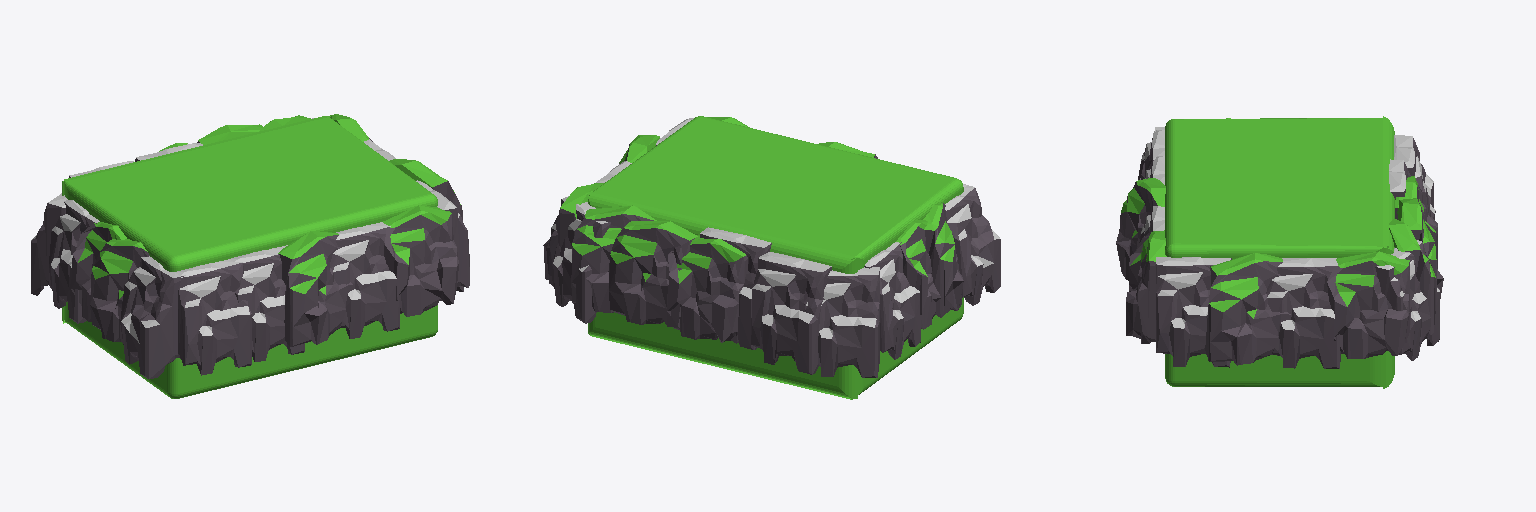
The model's file is small_island.obj.
The picture shows the model from 3 angles: view 1: azimuth 30°, elevation 25°; view 2: azimuth 150°, elevation 25°; view 3: azimuth 270°, elevation 25°; orthographic projection.
Visible parts, largest first — view 1: Cube.062_Cube.038, Cube.068_Cube.045, Cube.071_Cube.047, Cube.073_Cube.049, Cube.078_Cube.062, Cube.069_Cube.046, Cube.072_Cube.048, Cube.077_Cube.061, Cube.075_Cube.052, Cube.076_Cube.053, Cube.079_Cube.065, Cube.066_Cube.043 (+2 smaller); view 2: Cube.062_Cube.038, Cube.054_Cube.023, Cube.050_Cube.019, Cube.052_Cube.021, Cube.079_Cube.065, Cube.078_Cube.062, Cube.075_Cube.052, Cube.051_Cube.020, Cube.077_Cube.061, Cube.063_Cube.039, Cube.076_Cube.053, Cube.053_Cube.022 (+2 smaller); view 3: Cube.062_Cube.038, Cube.067_Cube.044, Cube.065_Cube.042, Cube.064_Cube.041, Cube.066_Cube.043, Cube.071_Cube.047, Cube.063_Cube.039, Cube.073_Cube.049, Cube.051_Cube.020, Cube.054_Cube.023, Cube.052_Cube.021, Cube.050_Cube.019 (+2 smaller).
Boxes of the visible parts, <box> form: Cube.062_Cube.038: <box>62,116,437,398</box>; Cube.068_Cube.045: <box>173,259,251,375</box>; Cube.071_Cube.047: <box>383,205,458,316</box>; Cube.073_Cube.049: <box>278,231,354,346</box>; Cube.078_Cube.062: <box>120,256,185,378</box>; Cube.069_Cube.046: <box>330,222,399,338</box>; Cube.072_Cube.048: <box>230,245,304,361</box>; Cube.077_Cube.061: <box>90,239,149,341</box>; Cube.075_Cube.052: <box>49,200,99,323</box>; Cube.076_Cube.053: <box>71,222,126,326</box>; Cube.079_Cube.065: <box>31,193,67,295</box>; Cube.066_Cube.043: <box>416,180,469,291</box>; Cube.062_Cube.038: <box>588,116,963,399</box>; Cube.054_Cube.023: <box>751,252,831,374</box>; Cube.050_Cube.019: <box>667,235,747,343</box>; Cube.052_Cube.021: <box>609,221,697,326</box>; Cube.079_Cube.065: <box>804,267,879,377</box>; Cube.078_Cube.062: <box>945,184,1000,305</box>; Cube.075_Cube.052: <box>864,242,920,359</box>; Cube.051_Cube.020: <box>571,205,656,312</box>; Cube.077_Cube.061: <box>923,203,963,317</box>; Cube.063_Cube.039: <box>549,196,610,323</box>; Cube.076_Cube.053: <box>896,220,950,329</box>; Cube.053_Cube.022: <box>700,227,771,349</box>; Cube.062_Cube.038: <box>1165,116,1394,388</box>; Cube.067_Cube.044: <box>1205,253,1291,365</box>; Cube.065_Cube.042: <box>1327,251,1409,358</box>; Cube.064_Cube.041: <box>1266,258,1340,368</box>; Cube.066_Cube.043: <box>1156,257,1231,367</box>; Cube.071_Cube.047: <box>1126,230,1166,343</box>; Cube.063_Cube.039: <box>1375,240,1439,360</box>; Cube.073_Cube.049: <box>1116,178,1165,280</box>; Cube.051_Cube.020: <box>1388,219,1436,334</box>; Cube.054_Cube.023: <box>1394,135,1435,219</box>; Cube.052_Cube.021: <box>1397,198,1443,298</box>; Cube.050_Cube.019: <box>1395,176,1437,268</box>.
Size of the model in its own units: 19.06 by 7.32 by 15.27.